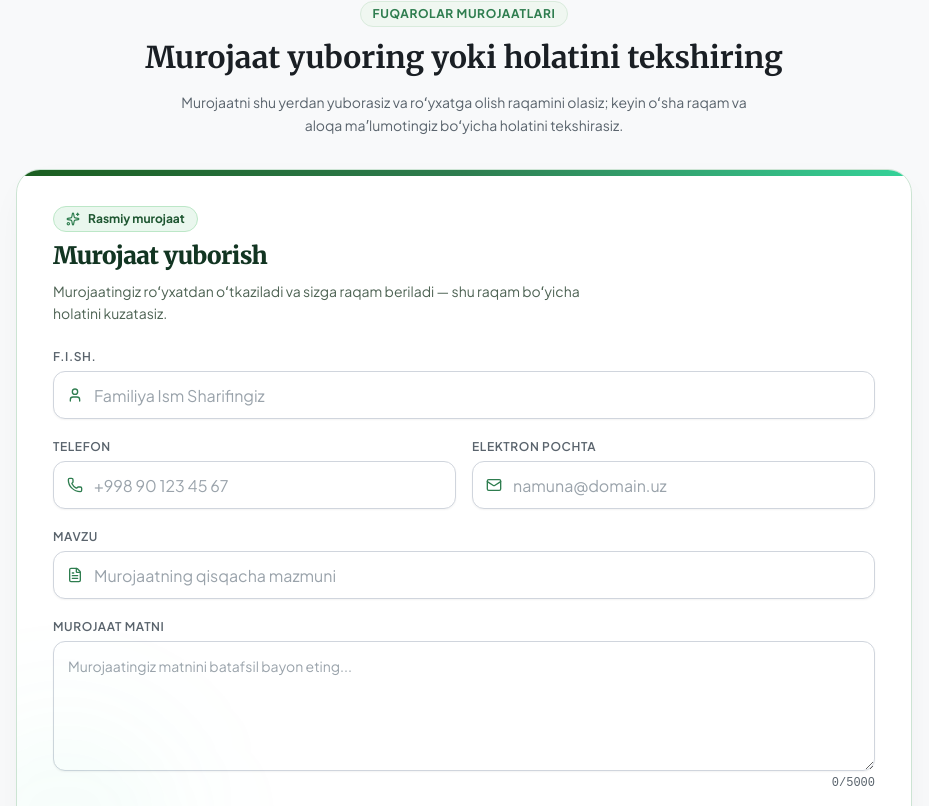
Test: filing an appeal › reports a refusal instead of pretending the appeal was filed
In the field with id "appeal-file-name": (464, 395) [53,371,875,419], type "Aziz Karimov"
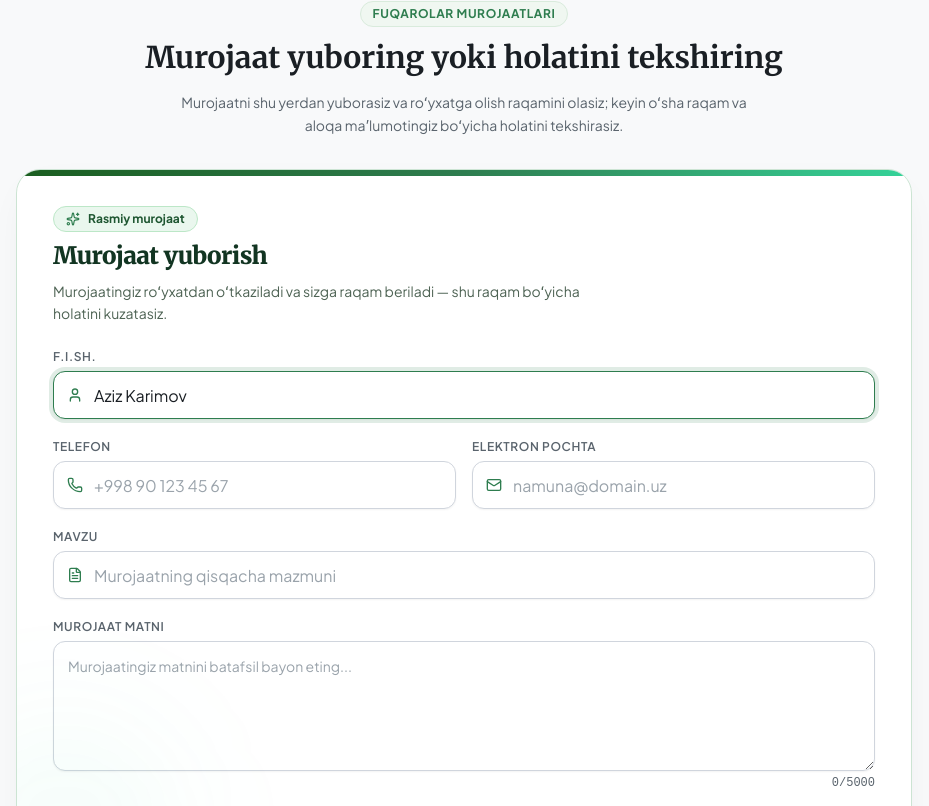
In the field with id "appeal-file-subject": (464, 575) [53,551,875,599], type "Yaylovdan foydalanish"
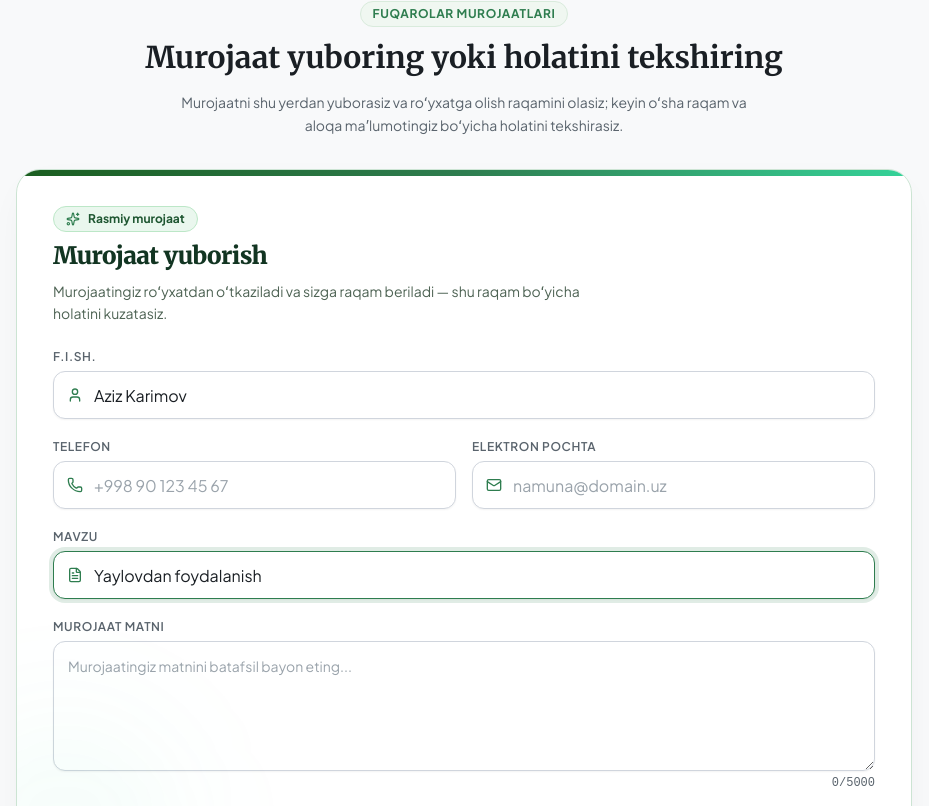
In the text box with id "appeal-file-body": (464, 706) [53,641,875,771], type "Kontur chegarasi haqida savol."
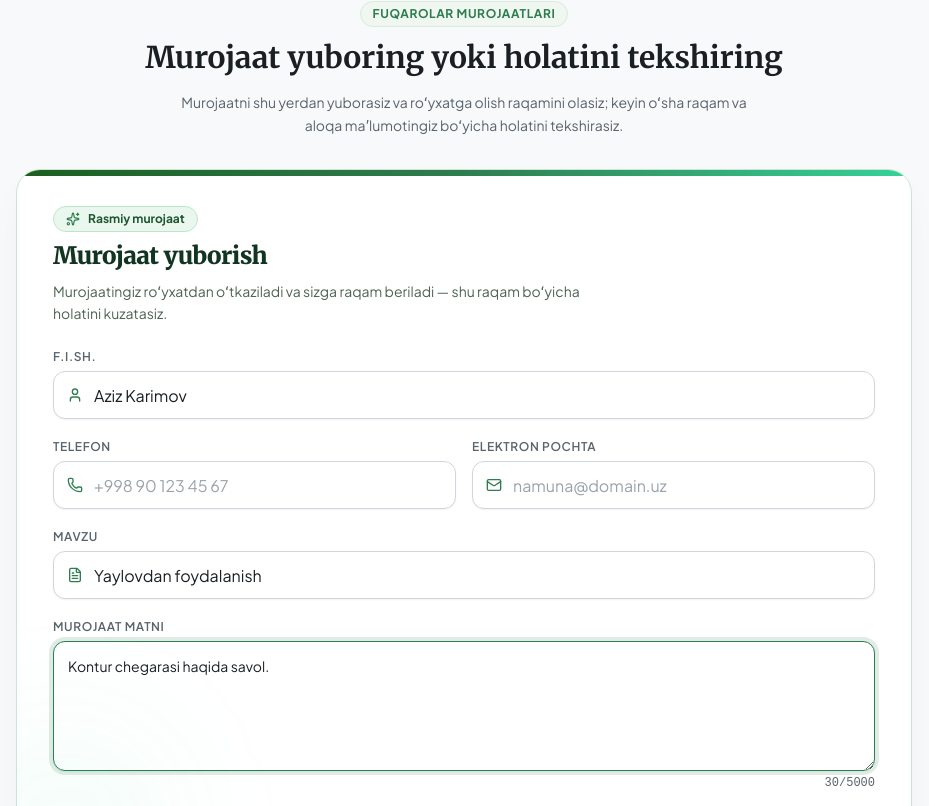
In the field with id "appeal-file-phone": (254, 485) [53,461,456,509], type "+998901234567"
(page scrolled)
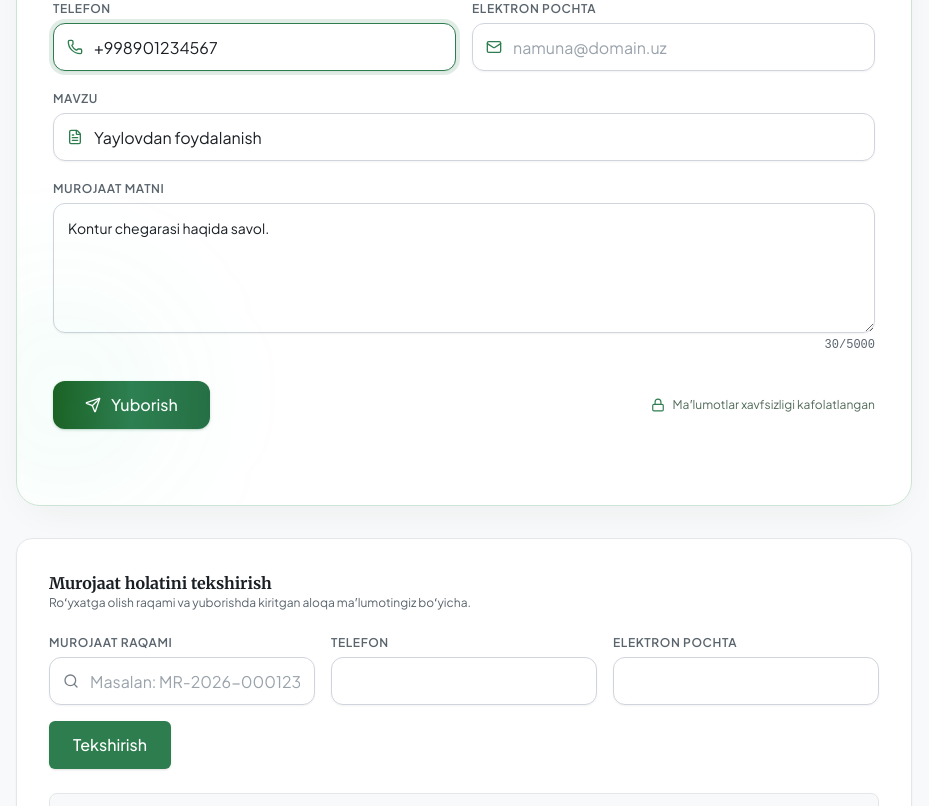
Click the button named "Yuborish" in the row of "Maʼlumotlar xavfsizligi kafolatlangan": (131, 405) [53,381,210,429]
(page scrolled)
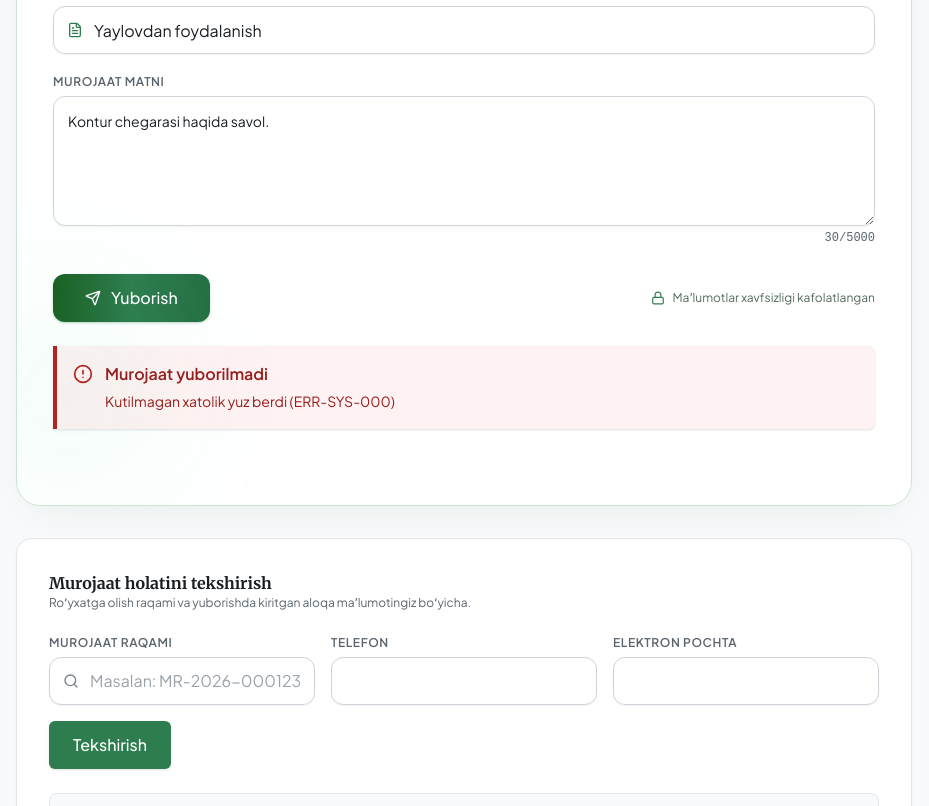
Result: the heading "Murojaat yuborilmadi" is shown at [105,363,268,384]
